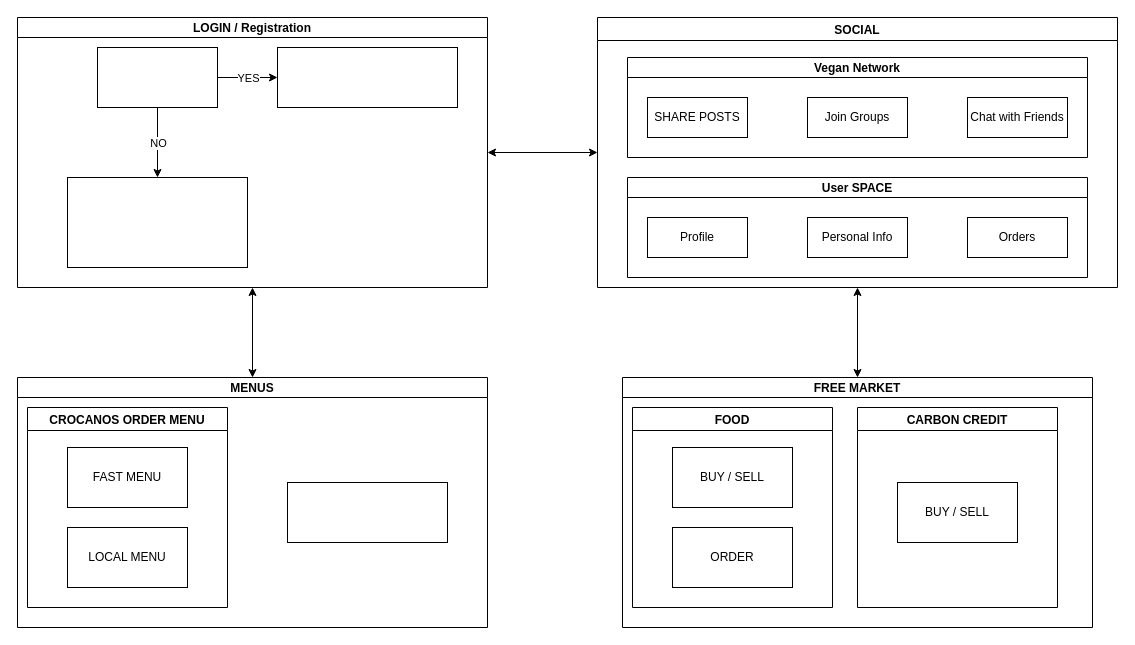
The diagram is 1135 pixels wide and 645 high, and some of its shapes have lost their labels. The shapes that lost their labels are listed below. From the top down, each one's centre as x and y in pixels, then its label:
At [157,77]: "Has Account ?".
At [367,77]: "LOGIN".
At [157,222]: "CREATE ACCOUNT OR LINK WITH SOCIAL MEDIA ACCOUNT".
At [367,512]: "CROCANOS DELIVERY MENU".
